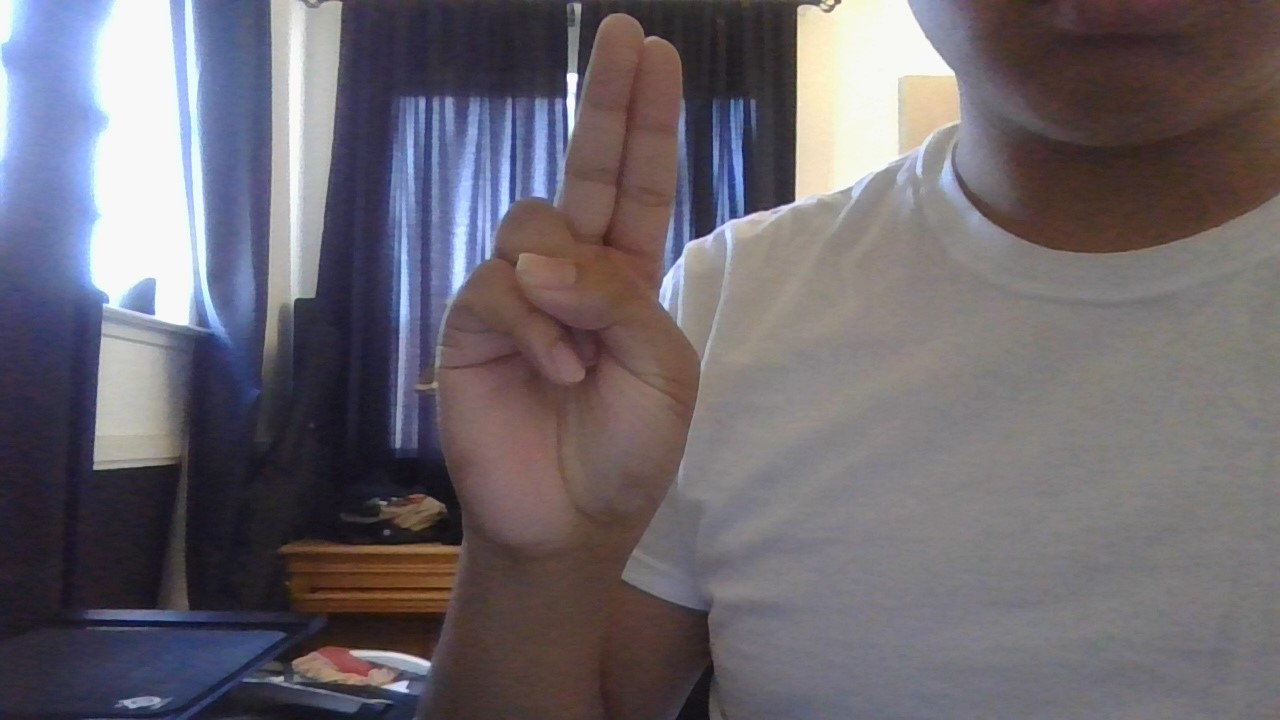u: (424, 1, 727, 586)
